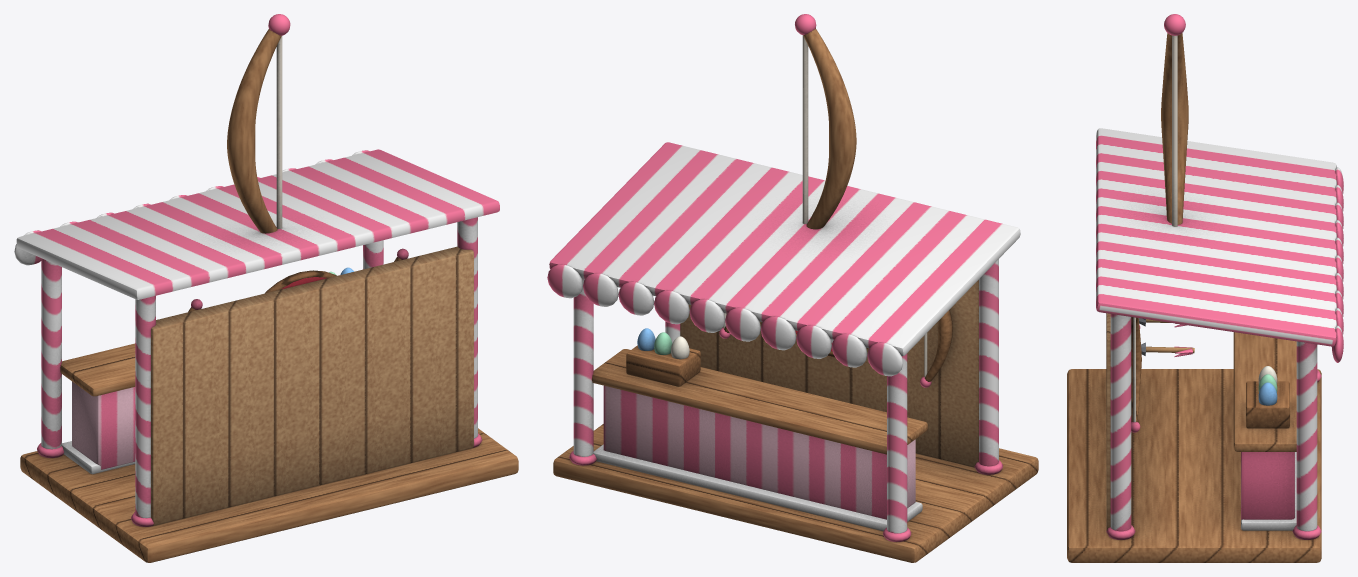
The model's file is Bow Shop.fbx.
3 renders of one model, left to right at view 1: azimuth 30°, elevation 25°; view 2: azimuth 150°, elevation 25°; view 3: azimuth 270°, elevation 25°, orthographic. The views are drawn at different scales.
Parts seen in each view (by area): view 1: Bow Shop; view 2: Bow Shop; view 3: Bow Shop.
Part boxes in pixels (box(x1,y1,x2,y2)): Bow Shop: box(14, 14, 518, 562); Bow Shop: box(547, 14, 1038, 562); Bow Shop: box(1067, 14, 1343, 562).
Size of the model in its own units: 17.4 by 20.73 by 11.3.
Materials: 1 (1 with a texture image).
